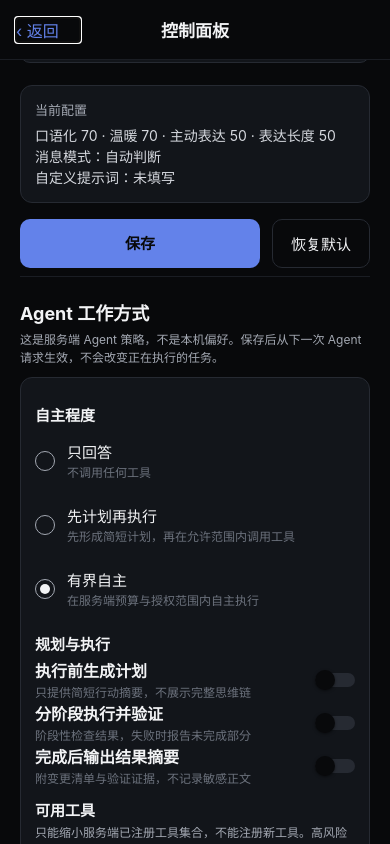
Test case: Agent 工作方式分区 › 从服务端读取策略、显示工具风险并保存修改
(page scrolled)
Expected: the text "Agent 工作方式" is shown, [20,303,149,324]
Step 1. Click the text "只回答" → (90, 452), box [67,443,112,462]
(page scrolled)
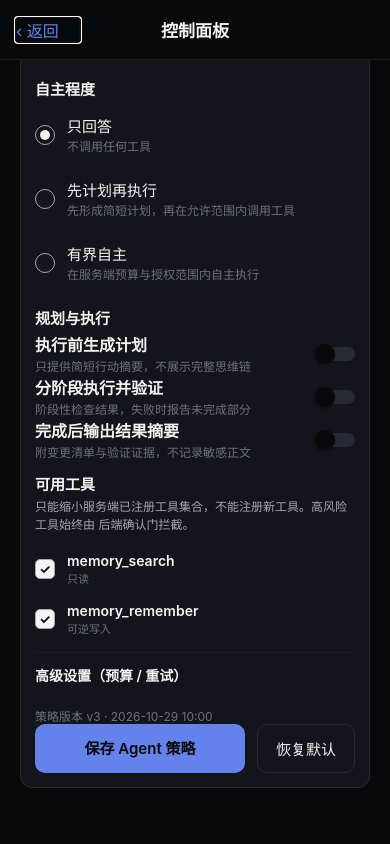
Step 2. Click the text "保存 Agent 策略" → (140, 748), box [84,737,196,758]
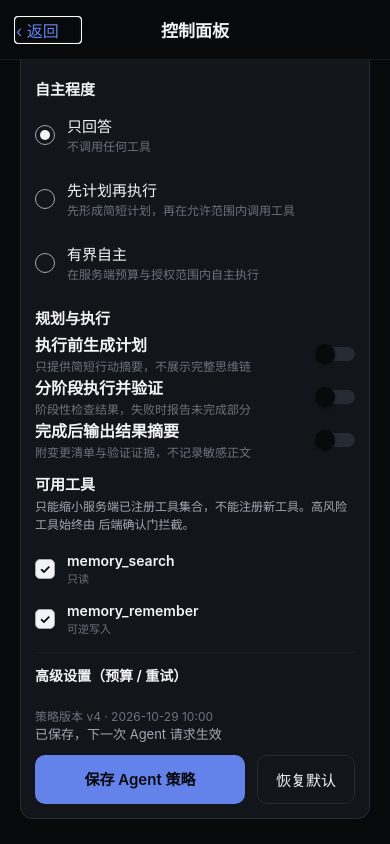
Expected: the text "已保存，下一次 Agent 请求生效" is shown, [35,726,222,742]
